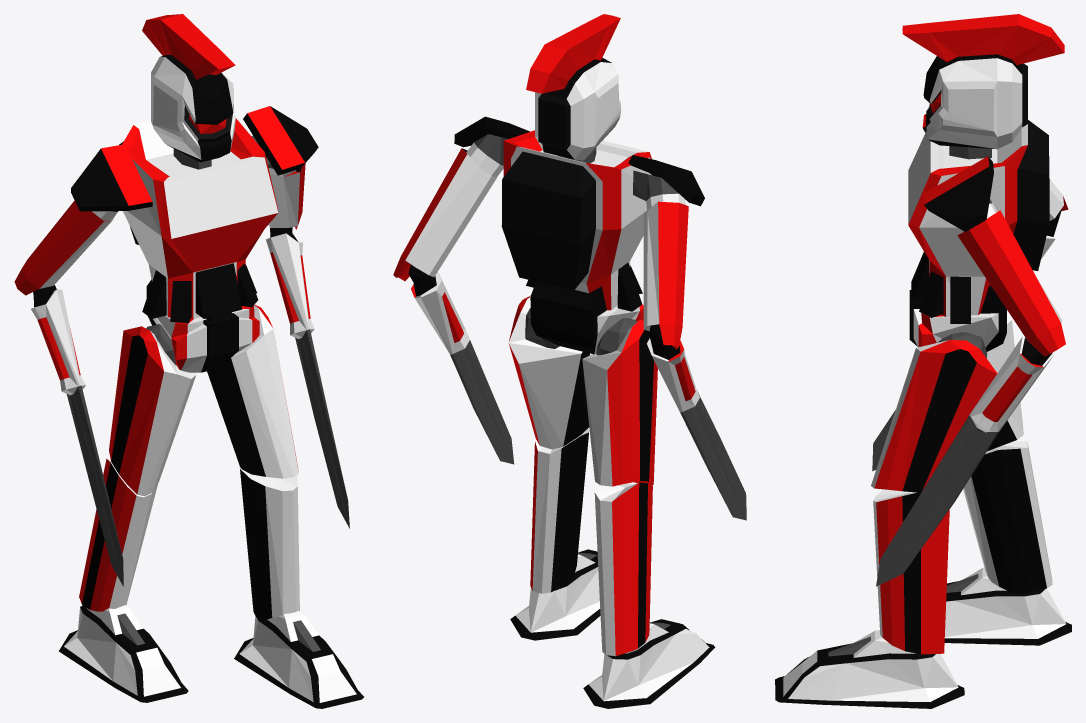
File: robots_000017.obj
3 views of the same model, side by side, from view 1: azimuth 30°, elevation 25°; view 2: azimuth 150°, elevation 25°; view 3: azimuth 270°, elevation 25° (orthographic). The views are drawn at different scales.
Parts seen in each view (by area): view 1: Chest_plate_Cube.004, Head_gladiator_Cube.024, R_Forearm.001_Cube.028, R_Thigh_Cube.005, R_Thigh.002_Cube.027, R_Forearm.002_Cube.033, R_Shin.002_Cube.029, R_Foot_Cube, R_Foot.002_Cube.035, R_Shin_Cube.007, Pelvis_Cube.006, R_Arm.002_Cube.032 (+1 smaller); view 2: Chest_plate_Cube.004, R_Forearm.002_Cube.033, R_Forearm.001_Cube.028, Head_gladiator_Cube.024, R_Thigh_Cube.005, R_Shin_Cube.007, R_Shin.002_Cube.029, R_Thigh.002_Cube.027, R_Foot_Cube, Pelvis_Cube.006, R_Foot.002_Cube.035, R_Arm.002_Cube.032 (+2 smaller); view 3: R_Forearm.002_Cube.033, Chest_plate_Cube.004, Head_gladiator_Cube.024, R_Thigh.002_Cube.027, R_Foot.002_Cube.035, R_Shin_Cube.007, R_Shin.002_Cube.029, R_Foot_Cube, R_Arm.003_Cube.034, Pelvis_Cube.006, R_Thigh_Cube.005, R_Forearm.001_Cube.028 (+1 smaller).
Boxes of the visible parts, x1,y1,x2,y2 form: Chest_plate_Cube.004: [119, 118, 278, 323]; Head_gladiator_Cube.024: [142, 14, 235, 162]; R_Forearm.001_Cube.028: [14, 200, 123, 586]; R_Thigh_Cube.005: [109, 326, 196, 496]; R_Thigh.002_Cube.027: [207, 304, 298, 478]; R_Forearm.002_Cube.033: [266, 163, 349, 528]; R_Shin.002_Cube.029: [239, 467, 299, 620]; R_Foot_Cube: [59, 605, 188, 702]; R_Foot.002_Cube.035: [234, 610, 364, 708]; R_Shin_Cube.007: [79, 458, 158, 611]; Pelvis_Cube.006: [146, 279, 259, 372]; R_Arm.002_Cube.032: [71, 144, 152, 220]; Chest_plate_Cube.004: [501, 130, 651, 311]; R_Forearm.002_Cube.033: [393, 148, 514, 464]; R_Forearm.001_Cube.028: [643, 201, 746, 520]; Head_gladiator_Cube.024: [526, 14, 621, 160]; R_Thigh_Cube.005: [582, 319, 657, 486]; R_Shin_Cube.007: [594, 482, 652, 656]; R_Shin.002_Cube.029: [530, 429, 588, 593]; R_Thigh.002_Cube.027: [508, 295, 589, 449]; R_Foot_Cube: [583, 619, 715, 708]; Pelvis_Cube.006: [529, 281, 643, 354]; R_Foot.002_Cube.035: [510, 549, 600, 640]; R_Arm.002_Cube.032: [628, 155, 704, 210]; R_Forearm.002_Cube.033: [876, 210, 1065, 586]; Chest_plate_Cube.004: [908, 120, 1049, 323]; Head_gladiator_Cube.024: [902, 14, 1064, 149]; R_Thigh.002_Cube.027: [871, 340, 997, 492]; R_Foot.002_Cube.035: [775, 630, 964, 708]; R_Shin_Cube.007: [963, 436, 1052, 593]; R_Shin.002_Cube.029: [873, 489, 949, 654]; R_Foot_Cube: [944, 567, 1071, 645]; R_Arm.003_Cube.034: [923, 156, 997, 232]; Pelvis_Cube.006: [909, 285, 1006, 351]; R_Thigh_Cube.005: [987, 310, 1023, 451]; R_Forearm.001_Cube.028: [872, 178, 1068, 471].
Size of the model in its own units: 1.51 by 3.17 by 1.32.
